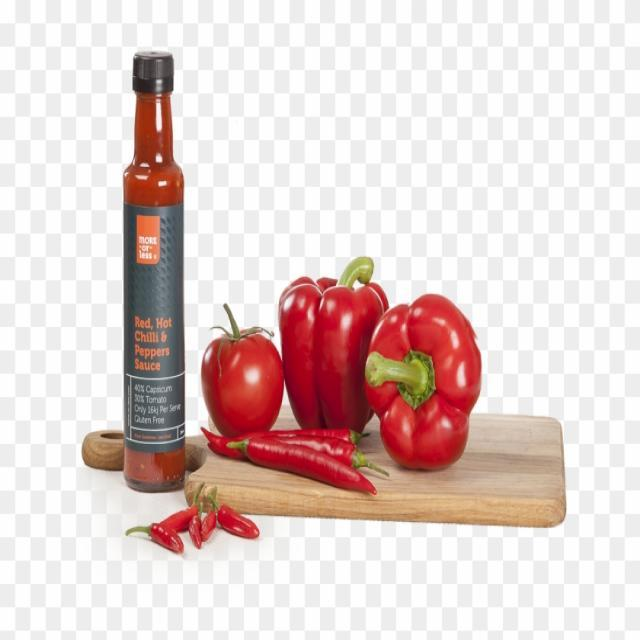bell_pepper: (367, 289, 485, 479), (281, 257, 381, 438)
tomato: (198, 300, 284, 446)
